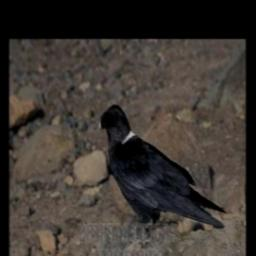Crow: (96, 103, 229, 253)
